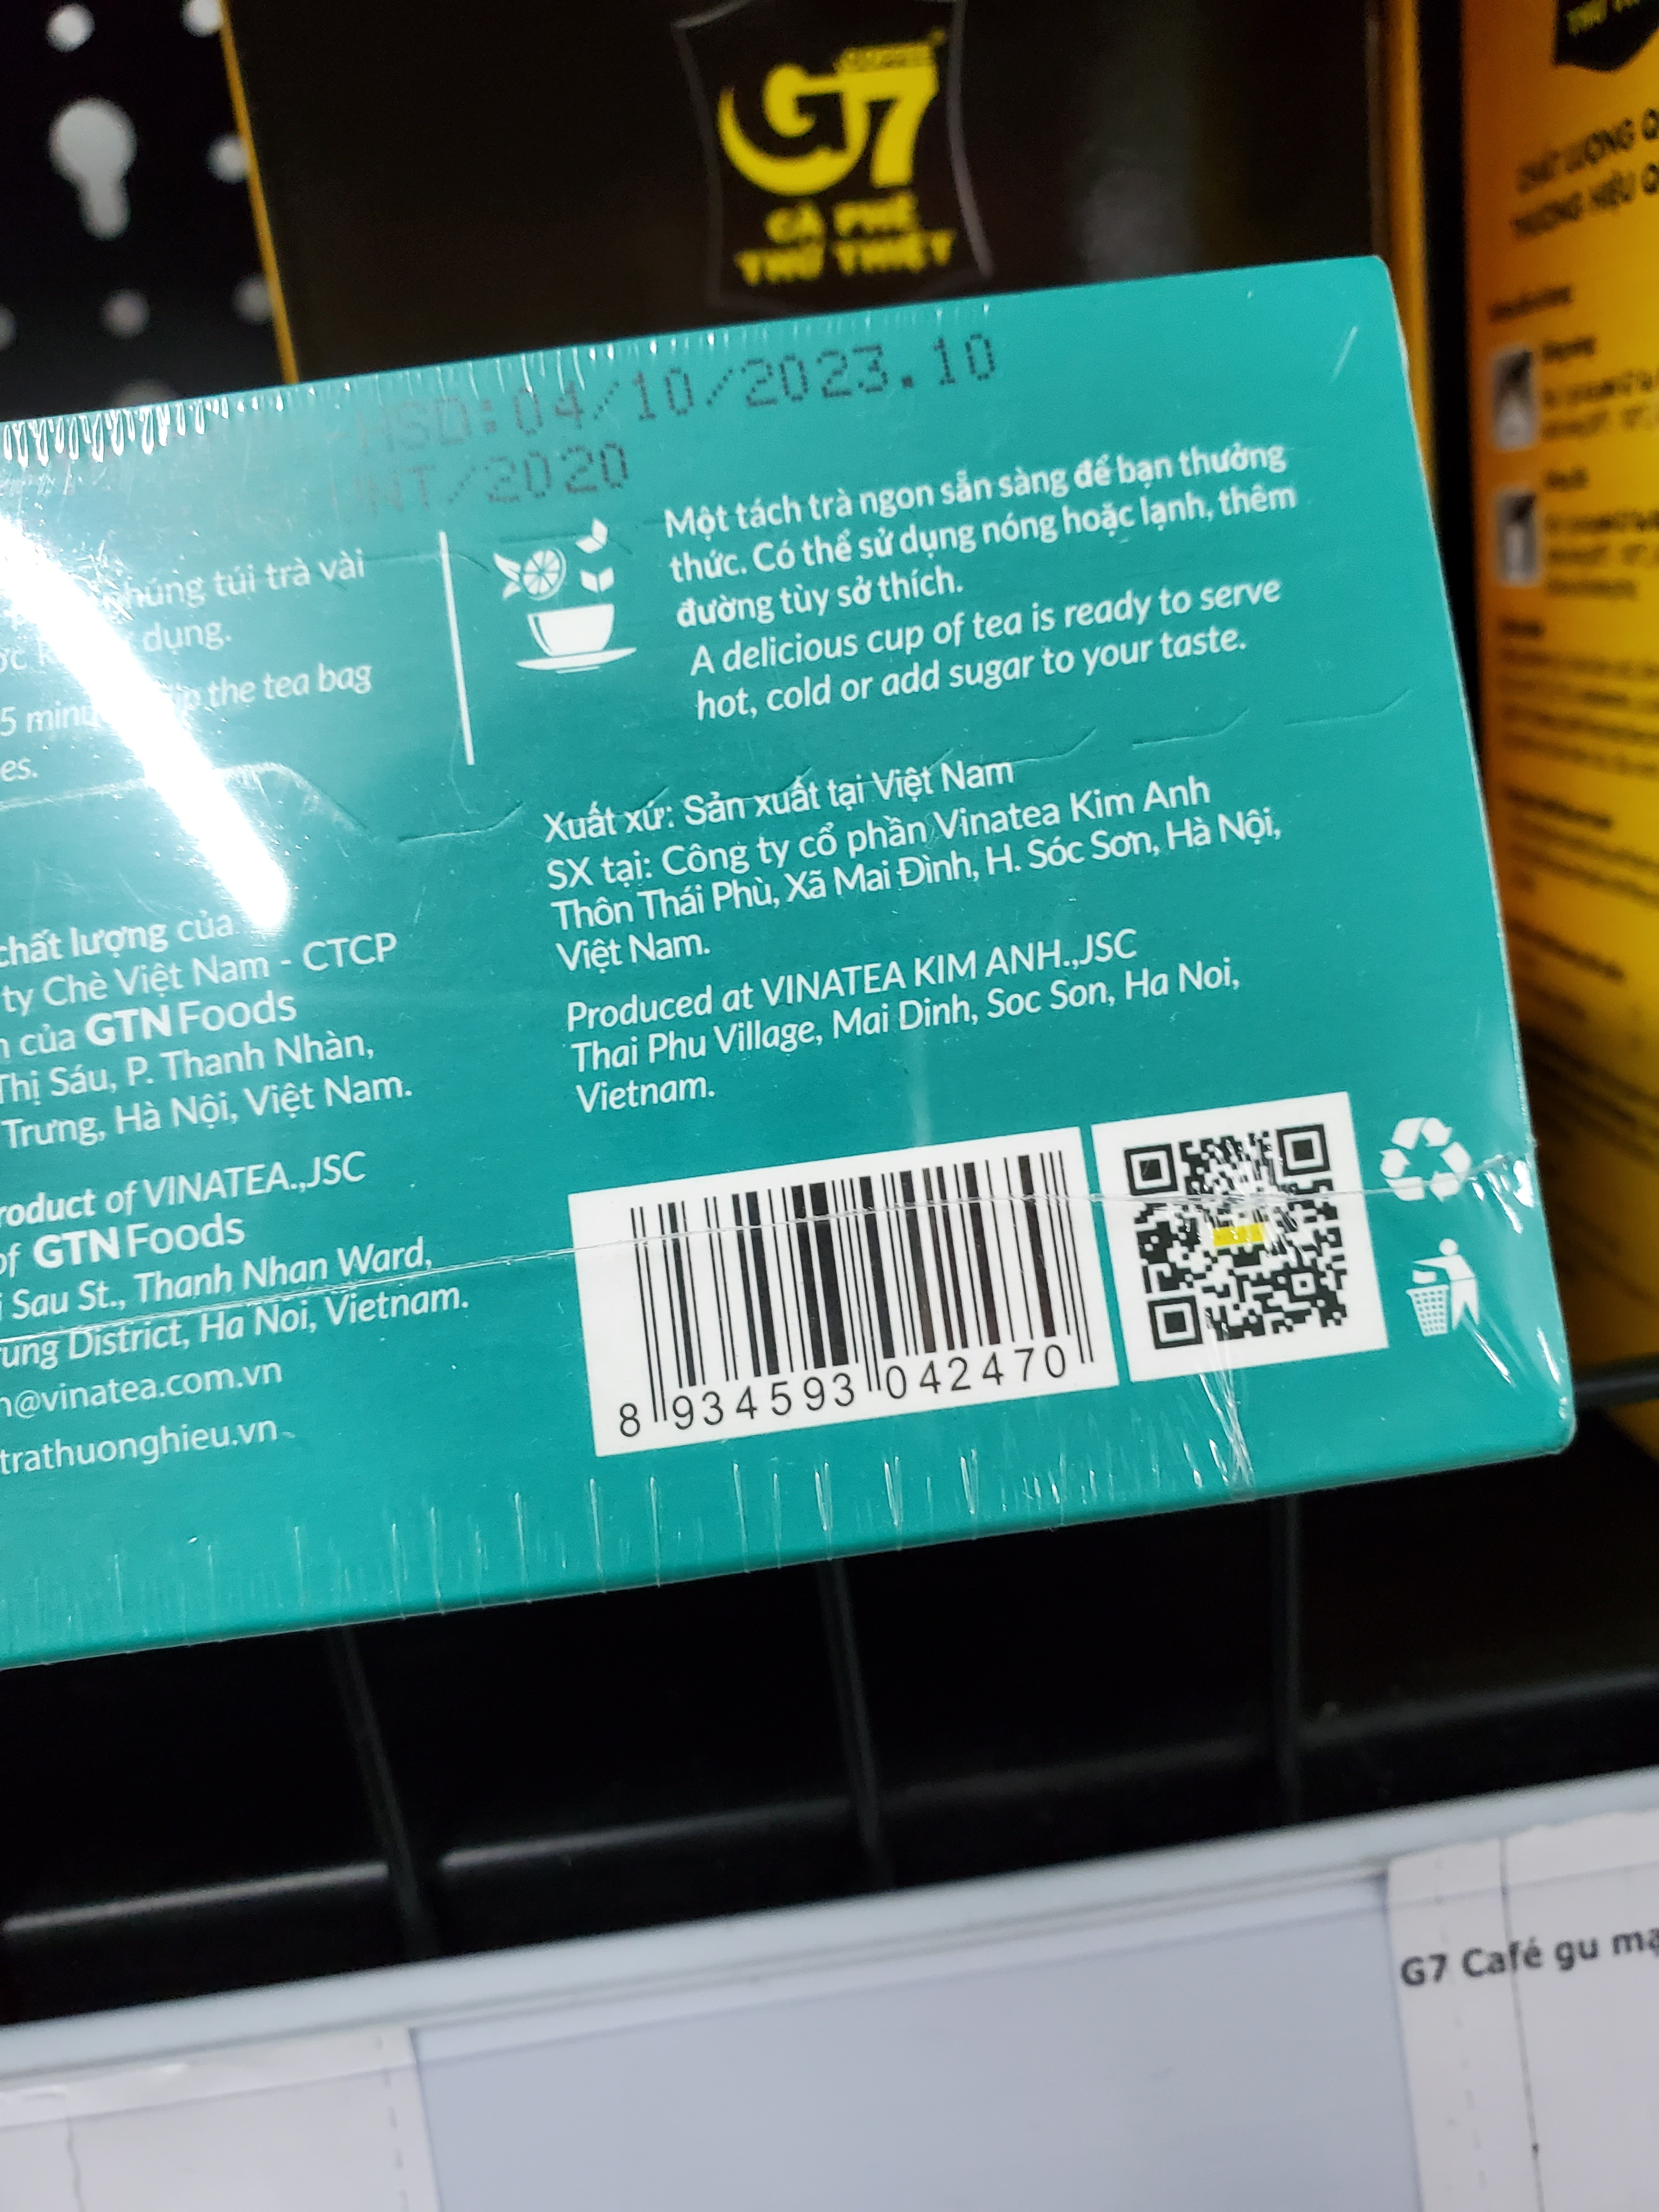barcode: (540, 1127, 1126, 1440)
qr code: (1089, 1083, 1392, 1402)
